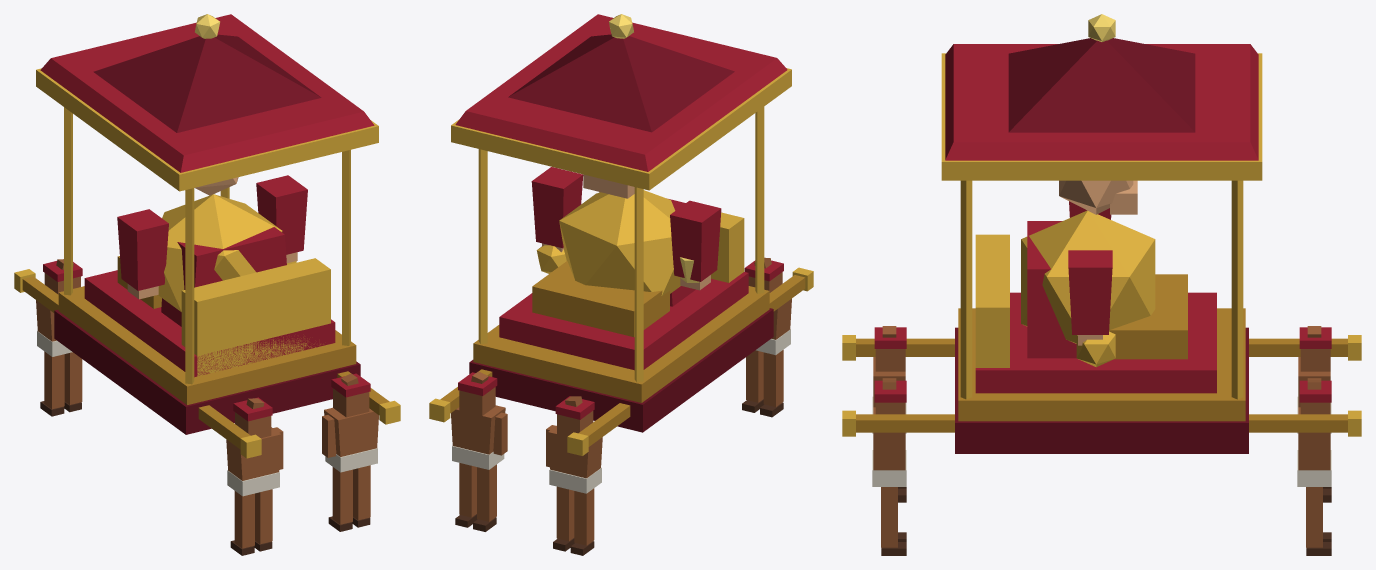
Rendered from EN_GildedPatron.fbx.
3 renders of one model, left to right at view 1: azimuth 30°, elevation 25°; view 2: azimuth 150°, elevation 25°; view 3: azimuth 270°, elevation 25°, orthographic. The views are drawn at different scales.
Visible parts, largest first — view 1: Canopy, Peak, Backrest, Body, Skirt, Fringe, Cushion, Belly, ArmL, Toga, ArmR, Post11 (+20 smaller); view 2: Canopy, Peak, Body, Belly, Cushion, Skirt, Fringe, Lap, ArmL, ArmR, Post1-1, Post-1-1 (+22 smaller); view 3: Canopy, Peak, Cushion, Skirt, Body, Belly, Fringe, Backrest, Lap, PoleR, ArmR, Toga (+17 smaller).
Part boxes in pixels (left/top/right/bottom): Canopy: left=40, top=14, right=374, bottom=172; Peak: left=93, top=34, right=321, bottom=132; Backrest: left=181, top=258, right=330, bottom=376; Body: left=58, top=286, right=356, bottom=404; Skirt: left=54, top=309, right=360, bottom=434; Fringe: left=36, top=68, right=378, bottom=191; Cushion: left=84, top=270, right=335, bottom=377; Belly: left=158, top=194, right=282, bottom=311; ArmL: left=117, top=209, right=168, bottom=290; Toga: left=161, top=227, right=286, bottom=326; ArmR: left=256, top=175, right=307, bottom=254; Post11: left=185, top=188, right=194, bottom=384; Canopy: left=455, top=14, right=787, bottom=171; Peak: left=508, top=34, right=734, bottom=132; Body: left=473, top=286, right=769, bottom=402; Belly: left=559, top=190, right=680, bottom=295; Cushion: left=499, top=272, right=748, bottom=370; Skirt: left=469, top=308, right=773, bottom=432; Fringe: left=451, top=68, right=791, bottom=190; Lap: left=532, top=261, right=669, bottom=337; ArmL: left=670, top=200, right=721, bottom=281; ArmR: left=531, top=167, right=583, bottom=248; Post1-1: left=634, top=187, right=643, bottom=382; Post-1-1: left=478, top=149, right=487, bottom=343; Canopy: left=945, top=44, right=1258, bottom=160; Peak: left=1008, top=38, right=1195, bottom=132; Cushion: left=975, top=292, right=1216, bottom=393; Skirt: left=955, top=327, right=1248, bottom=453; Body: left=958, top=308, right=1245, bottom=421; Belly: left=1021, top=210, right=1155, bottom=343; Fringe: left=941, top=53, right=1262, bottom=180; Backrest: left=975, top=234, right=1009, bottom=367; Lap: left=1109, top=274, right=1187, bottom=359; PoleR: left=856, top=414, right=1347, bottom=432; ArmR: left=1068, top=250, right=1112, bottom=334; Toga: left=1027, top=221, right=1076, bottom=358.
Bounding box in the file's own units: 2.24 × 4.52 × 4.87.
